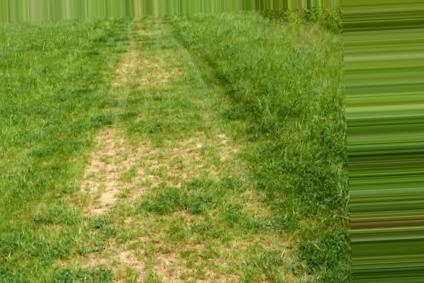patch: (92, 244, 241, 280), (141, 145, 236, 185), (98, 132, 133, 205), (124, 213, 206, 240), (116, 55, 177, 82), (263, 235, 301, 278), (235, 191, 275, 220)
